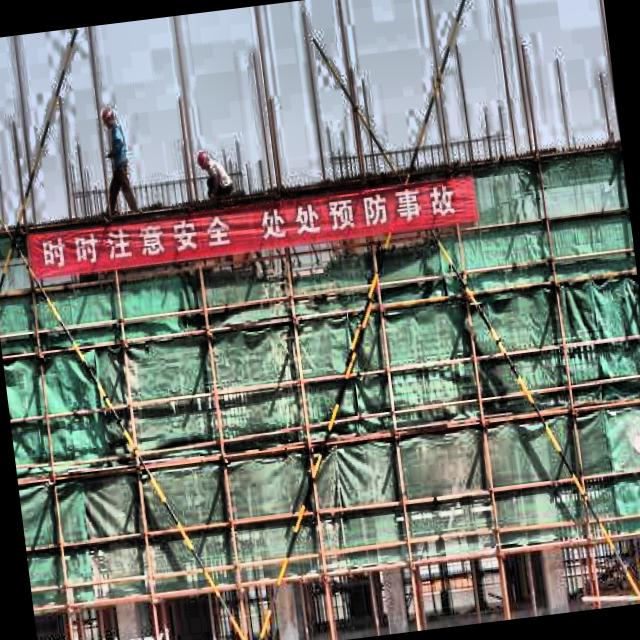helmet: (194, 146, 212, 172), (100, 104, 117, 130)
